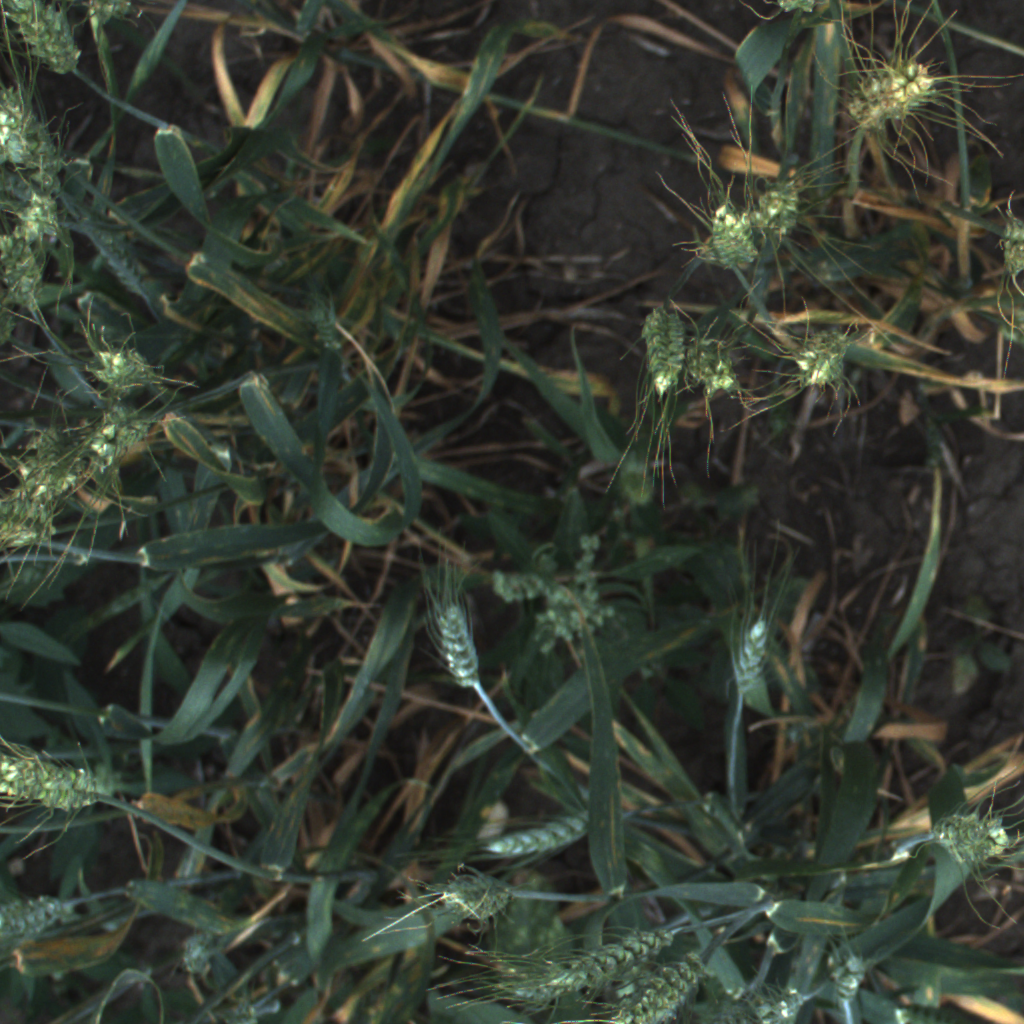wheat_head: (529, 917, 693, 1000), (0, 741, 136, 830), (841, 48, 948, 144), (417, 569, 490, 696), (605, 946, 723, 1024), (915, 803, 1023, 880), (2, 0, 93, 80), (81, 404, 167, 487), (0, 83, 71, 179), (474, 809, 599, 859), (782, 322, 862, 399), (696, 190, 762, 280), (723, 604, 779, 702), (634, 301, 693, 394), (425, 866, 517, 925), (0, 884, 80, 950), (746, 168, 813, 246), (0, 435, 85, 496), (88, 340, 164, 403), (694, 322, 746, 406), (9, 185, 73, 252), (1, 224, 49, 313), (821, 937, 872, 1019), (1, 476, 66, 540), (993, 198, 1024, 308), (734, 978, 808, 1024), (83, 0, 136, 39), (762, 1, 835, 23)
